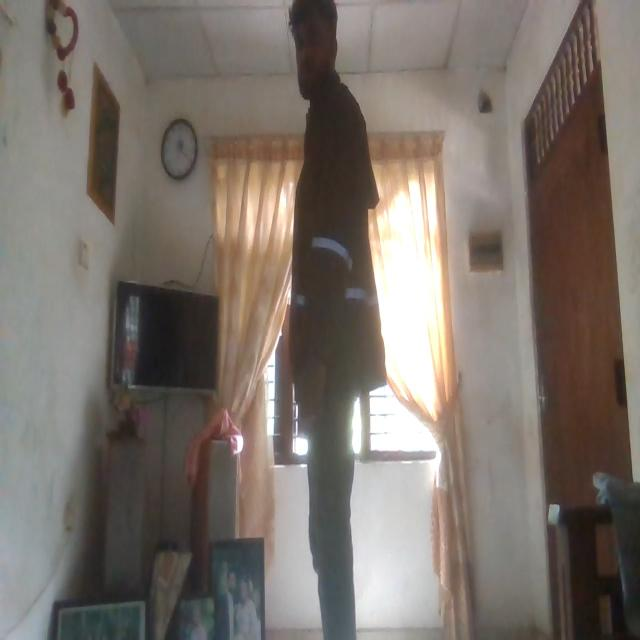Jacket_Wearer: (276, 80, 390, 408)
Person: (269, 0, 393, 640)
